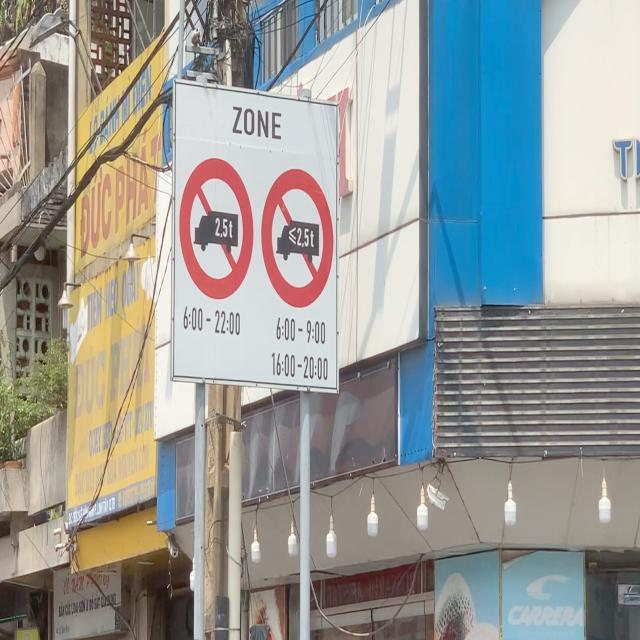Cam con lai: (260, 165, 336, 308), (180, 155, 254, 301)
